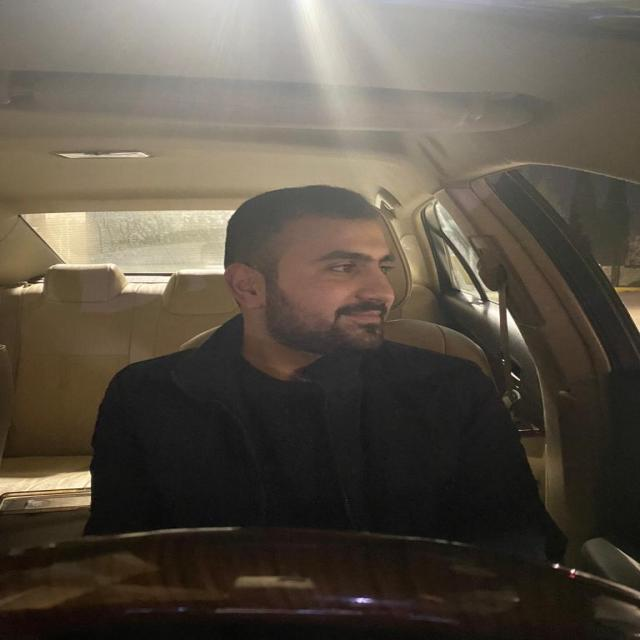LeftRight: (219, 180, 398, 361)
